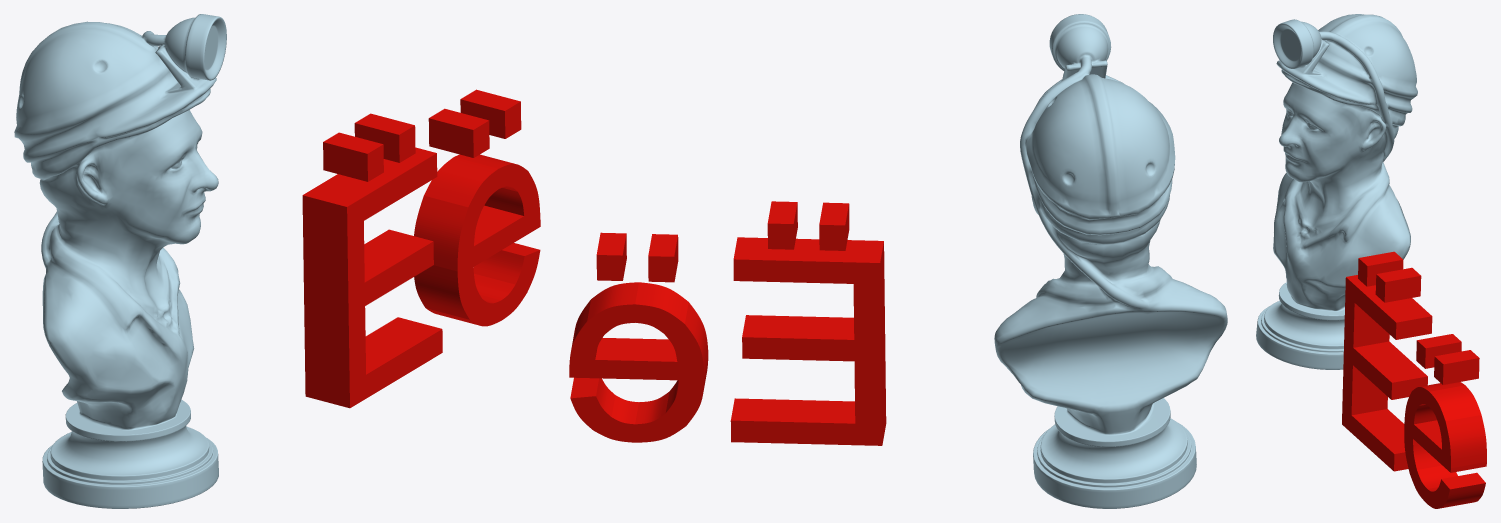
3 renders of one model, left to right at view 1: azimuth 30°, elevation 25°; view 2: azimuth 150°, elevation 25°; view 3: azimuth 270°, elevation 25°, orthographic. The views are drawn at different scales.
Parts seen in each view (by area): view 1: 15370_Bust-Coal_Miner_with_Hard_Hat_v1, Mesh_0.006; view 2: 15370_Bust-Coal_Miner_with_Hard_Hat_v1, Mesh_0.006; view 3: 15370_Bust-Coal_Miner_with_Hard_Hat_v1, Mesh_0.006.
Boxes of the visible parts, x1=… form: 15370_Bust-Coal_Miner_with_Hard_Hat_v1: x1=14, y1=14, x2=226, y2=508; Mesh_0.006: x1=302, y1=89, x2=540, y2=408; 15370_Bust-Coal_Miner_with_Hard_Hat_v1: x1=994, y1=14, x2=1227, y2=508; Mesh_0.006: x1=569, y1=201, x2=886, y2=445; 15370_Bust-Coal_Miner_with_Hard_Hat_v1: x1=1256, y1=14, x2=1417, y2=369; Mesh_0.006: x1=1342, y1=251, x2=1486, y2=508.
Size of the model in its own units: 39.9 by 29.71 by 18.02.
